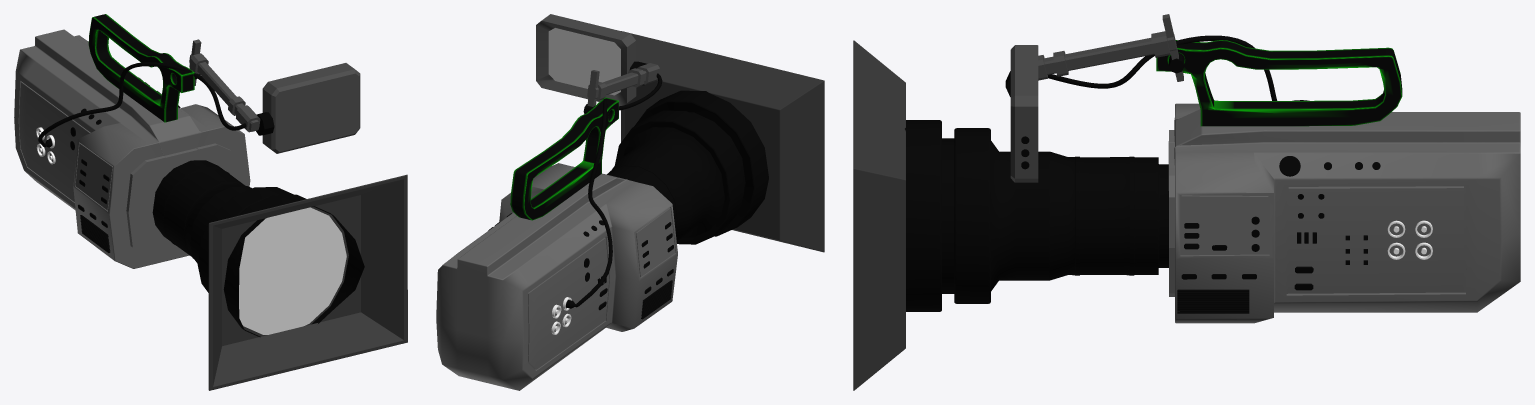
Rendered from Sony_FX9.fbx.
3 views of the same model, side by side, from view 1: azimuth 30°, elevation 25°; view 2: azimuth 150°, elevation 25°; view 3: azimuth 270°, elevation 25° (orthographic). The views are drawn at different scales.
Visible parts, largest first — view 1: pCube10, pCube11, pCylinder18, pCube13, pPlane4, pCube12, defaultBrush5Main, pPlane6; view 2: pCube10, pCube11, pCylinder18, pPlane4, pPlane47, pCube13, pCube12, defaultBrush5Main, pPlane6; view 3: pCube10, pCylinder18, pCube11, pPlane4, pCube13, pCube12, pPlane5, defaultBrush5Main.
Part boxes in pixels (bbox=[...]): pCube10: bbox=[14, 29, 250, 268]; pCube11: bbox=[208, 174, 407, 390]; pCylinder18: bbox=[152, 160, 364, 337]; pCube13: bbox=[262, 63, 360, 153]; pPlane4: bbox=[88, 14, 194, 122]; pCube12: bbox=[189, 39, 260, 132]; defaultBrush5Main: bbox=[38, 62, 246, 147]; pPlane6: bbox=[80, 215, 110, 252]; pCube10: bbox=[436, 163, 677, 390]; pCube11: bbox=[621, 31, 824, 252]; pCylinder18: bbox=[607, 90, 768, 244]; pPlane4: bbox=[510, 97, 618, 220]; pPlane47: bbox=[548, 28, 620, 95]; pCube13: bbox=[536, 14, 636, 106]; pCube12: bbox=[587, 63, 659, 106]; defaultBrush5Main: bbox=[575, 73, 662, 307]; pPlane6: bbox=[641, 280, 672, 319]; pCube10: bbox=[1168, 103, 1520, 323]; pCylinder18: bbox=[905, 120, 1168, 311]; pCube11: bbox=[853, 40, 905, 390]; pPlane4: bbox=[1156, 40, 1402, 126]; pCube13: bbox=[1010, 45, 1038, 182]; pCube12: bbox=[1038, 14, 1183, 81]; pPlane5: bbox=[1177, 289, 1249, 313]; defaultBrush5Main: bbox=[1048, 35, 1309, 100].
Size of the model in its own units: 10.75 by 11.46 by 21.99.
